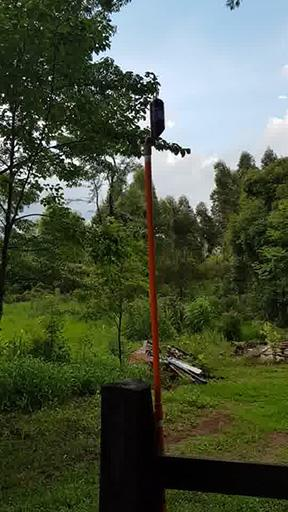Detector_Tensao_Contato: (146, 87, 166, 144)
Vara_Manobra: (141, 138, 164, 448)
